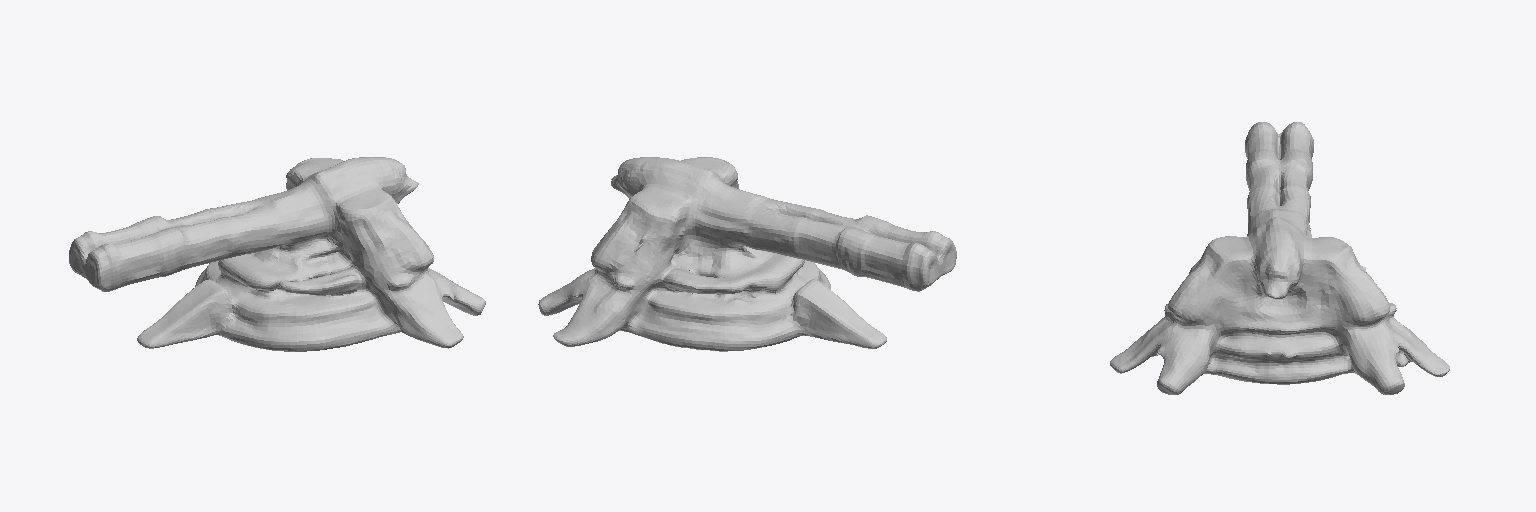
The model's file is af7e19d18586_a_large_sci_fi_plas.obj.
The picture shows the model from 3 angles: view 1: azimuth 30°, elevation 25°; view 2: azimuth 150°, elevation 25°; view 3: azimuth 270°, elevation 25°; orthographic projection.
Visible parts, largest first — view 1: mesh; view 2: mesh; view 3: mesh.
Boxes of the visible parts, box(x1,y1,x2,y2) form: mesh: box(69, 157, 485, 351); mesh: box(538, 157, 956, 351); mesh: box(1110, 122, 1449, 394).
Bounding box in the file's own units: 0.9994 × 0.3911 × 0.8499.